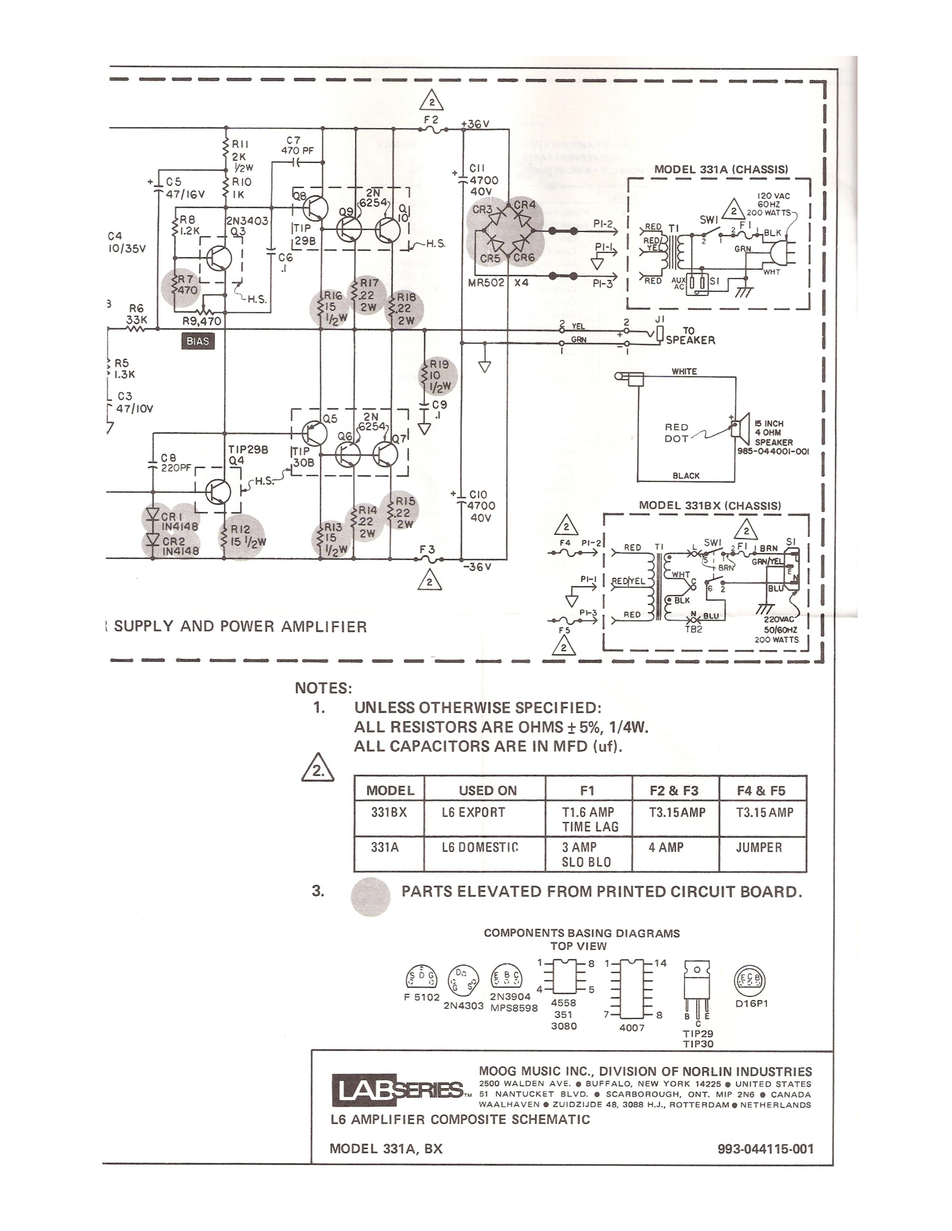C10: (468, 489, 489, 499)
C11: (468, 161, 486, 173)
C3: (117, 391, 134, 401)
C4: (107, 229, 123, 241)
C5: (165, 176, 183, 188)
C6: (277, 252, 294, 263)
C7: (286, 135, 301, 146)
C8: (160, 451, 177, 462)
CR10: (160, 511, 183, 521)
CR2: (162, 535, 186, 546)
F33: (418, 541, 436, 555)
Q10: (397, 203, 409, 224)
Q3_4: (230, 226, 247, 237)
Q4: (228, 456, 246, 465)
Q5: (322, 413, 339, 424)
Q6: (337, 430, 353, 441)
Q7: (392, 433, 407, 445)
Q8: (292, 191, 307, 201)
Q9: (337, 205, 355, 218)
R10: (231, 177, 252, 187)
R11: (231, 138, 250, 150)
R12: (231, 523, 251, 535)
R13: (324, 522, 342, 533)
R14: (358, 505, 378, 516)
R15: (394, 495, 417, 506)
R16: (324, 290, 343, 301)
R17: (361, 277, 380, 288)
R18: (397, 292, 418, 302)
R5: (114, 357, 129, 369)
R6: (128, 302, 144, 313)
R7: (178, 273, 194, 284)
R8: (179, 213, 197, 225)
R9: (182, 316, 197, 326)
VR3: (471, 204, 494, 215)
VR4: (513, 199, 538, 211)
VR5: (479, 252, 502, 265)
VR6: (512, 251, 537, 262)
